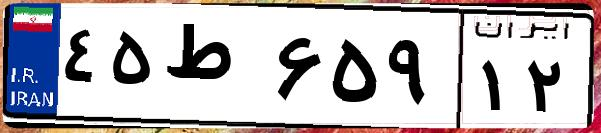1: (475, 38, 525, 113)
2: (525, 38, 570, 115)
4: (57, 26, 110, 100)
5: (330, 28, 385, 110), (110, 28, 158, 98)
6: (270, 28, 330, 110)
9: (385, 28, 445, 110)
ط: (158, 20, 270, 120)
